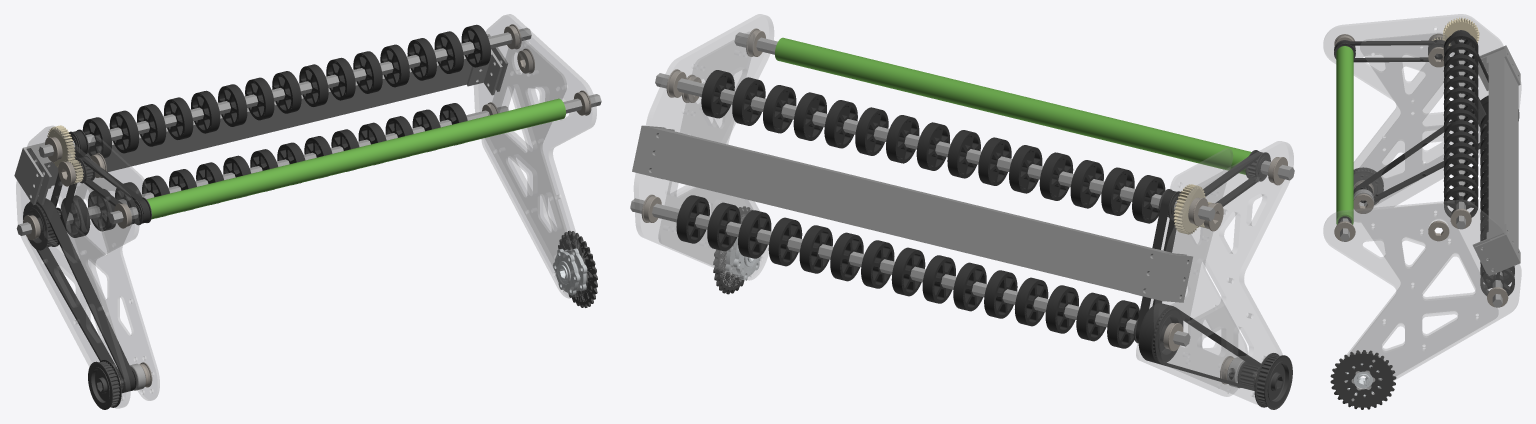
3 views of the same model, side by side, from view 1: azimuth 30°, elevation 25°; view 2: azimuth 150°, elevation 25°; view 3: azimuth 270°, elevation 25° (orthographic). The views are drawn at different scales.
Visible parts, largest first — view 1: Rotating side plate (×2), Belt cover plate (×2), 2" Flex Wheel (30A, 1/2" Wide, 1/2" Hex Stretch Bore) (×17), Intake cross bar, hex rod (×3), Belt- piv to R1 120T 15W, WCP-0982 Rev2 (×2), WCP-0990 Rev1, 1x2 brkt, Belt - gear to rolr 3, am-4124 500 Hex Hub, 36t Aluminum Pulley (HTD 5mm, 15mm Wide, 1/2" Hex Bore) (+3 smaller); view 2: 2" Flex Wheel (30A, 1/2" Wide, 1/2" Hex Stretch Bore) (×30), Rotating side plate (×2), Intake cross bar, Belt cover plate (×2), hex rod (×3), 1x2 brkt (×2), Belt- piv to R1 120T 15W, WCP-0990 Rev1, Belt- rolr1 to rolr 2, Belt - gear to rolr 3, 36t Aluminum Pulley (HTD 5mm, 15mm Wide, 1/2" Hex Bore), 40t Aluminum Spur Gear (20 DP, 1/2" Hex Bore) (+1 smaller); view 3: Rotating side plate (×2), Belt cover plate (×2), 2" Flex Wheel (30A, 1/2" Wide, 1/2" Hex Stretch Bore) (×16), Intake cross bar, WCP-0982 Rev2 (×2), 1x2 brkt (×2), am-2986 FR8ZZ Hex Bearing (×6), Belt- piv to R1 120T 15W, Belt - gear to rolr 3, hex rod (×2), 40t Aluminum Spur Gear (20 DP, 1/2" Hex Bore), WCP-0990 Rev1 (+5 smaller).
Part boxes in pixels (x1=…): Rotating side plate (×2): x1=16, y1=14, x2=596, y2=408; Belt cover plate (×2): x1=66, y1=33, x2=579, y2=400; 2" Flex Wheel (30A, 1/2" Wide, 1/2" Hex Stretch Bore) (×17): x1=60, y1=24, x2=490, y2=237; Intake cross bar: x1=29, y1=43, x2=492, y2=185; hex rod (×3): x1=16, y1=27, x2=601, y2=235; Belt- piv to R1 120T 15W: x1=29, y1=198, x2=135, y2=393; WCP-0982 Rev2 (×2): x1=558, y1=231, x2=597, y2=307; WCP-0990 Rev1: x1=88, y1=359, x2=121, y2=409; 1x2 brkt: x1=14, y1=142, x2=44, y2=205; Belt - gear to rolr 3: x1=80, y1=156, x2=149, y2=223; am-4124 500 Hex Hub: x1=553, y1=249, x2=580, y2=295; 36t Aluminum Pulley (HTD 5mm, 15mm Wide, 1/2" Hex Bore): x1=23, y1=201, x2=60, y2=250; 2" Flex Wheel (30A, 1/2" Wide, 1/2" Hex Stretch Bore) (×30): x1=676, y1=70, x2=1165, y2=348; Rotating side plate (×2): x1=634, y1=14, x2=1293, y2=404; Intake cross bar: x1=650, y1=127, x2=1175, y2=293; Belt cover plate (×2): x1=658, y1=32, x2=1247, y2=396; hex rod (×3): x1=630, y1=32, x2=1294, y2=346; 1x2 brkt (×2): x1=632, y1=125, x2=1192, y2=302; Belt- piv to R1 120T 15W: x1=1139, y1=303, x2=1260, y2=390; WCP-0990 Rev1: x1=1254, y1=353, x2=1292, y2=409; Belt- rolr1 to rolr 2: x1=1135, y1=190, x2=1176, y2=341; Belt - gear to rolr 3: x1=1203, y1=151, x2=1262, y2=206; 36t Aluminum Pulley (HTD 5mm, 15mm Wide, 1/2" Hex Bore): x1=1138, y1=306, x2=1183, y2=362; 40t Aluminum Spur Gear (20 DP, 1/2" Hex Bore): x1=1173, y1=184, x2=1205, y2=234; Rotating side plate (×2): x1=1323, y1=14, x2=1521, y2=393; Belt cover plate (×2): x1=1344, y1=33, x2=1497, y2=375; 2" Flex Wheel (30A, 1/2" Wide, 1/2" Hex Stretch Bore) (×16): x1=1443, y1=32, x2=1514, y2=295; Intake cross bar: x1=1488, y1=49, x2=1518, y2=247; WCP-0982 Rev2 (×2): x1=1330, y1=350, x2=1396, y2=409; 1x2 brkt (×2): x1=1474, y1=45, x2=1520, y2=275; am-2986 FR8ZZ Hex Bearing (×6): x1=1334, y1=47, x2=1508, y2=307; Belt- piv to R1 120T 15W: x1=1353, y1=95, x2=1519, y2=202; Belt - gear to rolr 3: x1=1335, y1=40, x2=1444, y2=62; hex rod (×2): x1=1456, y1=39, x2=1502, y2=307; 40t Aluminum Spur Gear (20 DP, 1/2" Hex Bore): x1=1443, y1=17, x2=1479, y2=45; WCP-0990 Rev1: x1=1353, y1=167, x2=1383, y2=204.
Size of the model in its own units: 0.6866 by 0.3333 by 0.2905.
